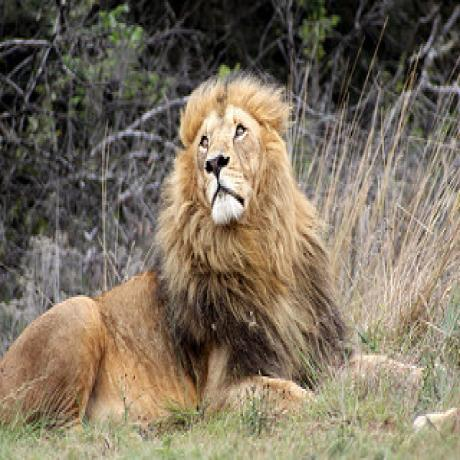Lion: (0, 63, 341, 426)
